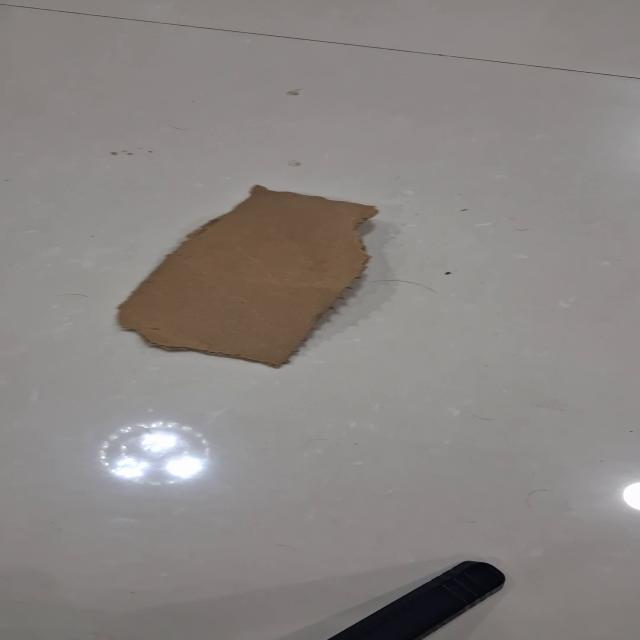paper: (114, 183, 380, 369)
